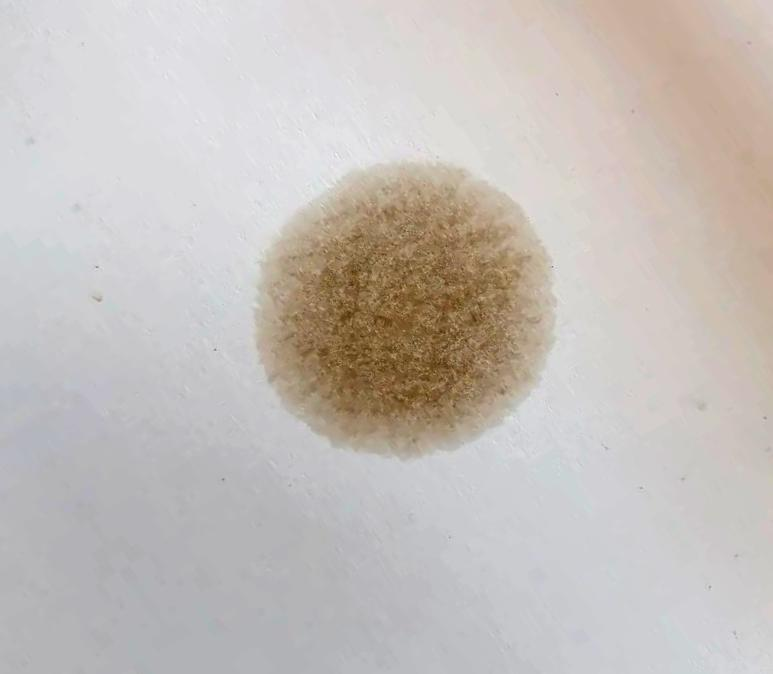stain: (246, 150, 569, 472)
